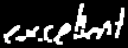excellent: (0, 0, 128, 48)
